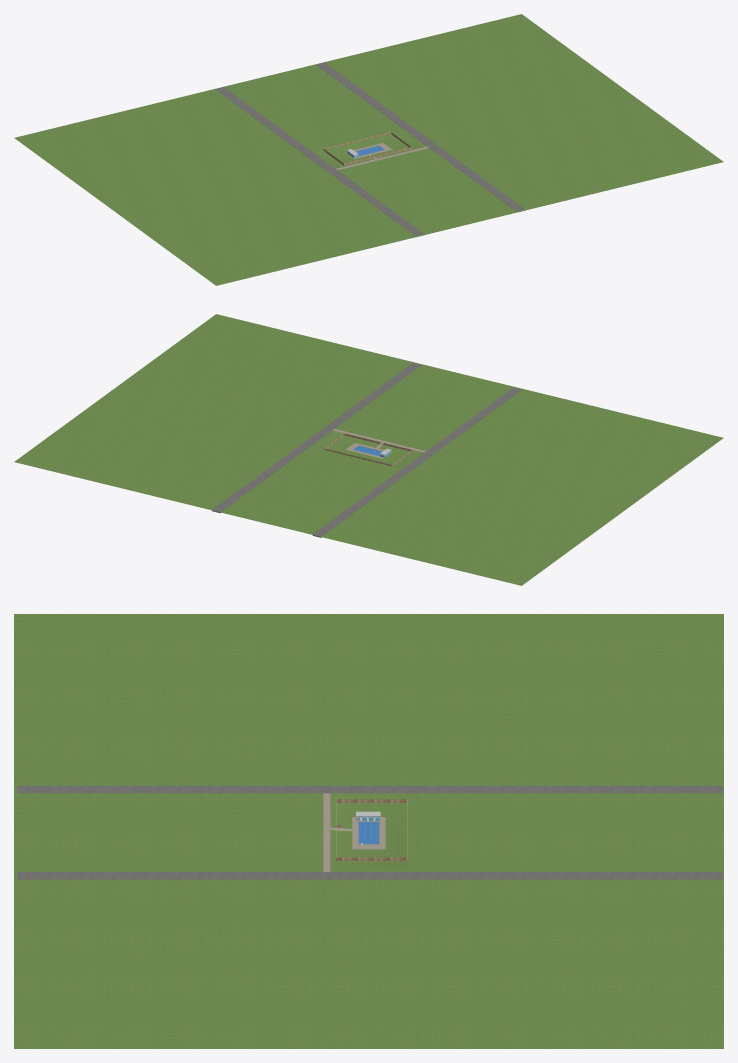
The model's file is ENVO_swimmingpool.obj.
3 views of the same model, one above another, from view 1: azimuth 30°, elevation 25°; view 2: azimuth 150°, elevation 25°; view 3: azimuth 270°, elevation 25° (orthographic). The views are drawn at different scales.
Parts seen in each view (by area): view 1: SwimmingPool; view 2: SwimmingPool; view 3: SwimmingPool.
Part boxes in pixels (x1,y1,x2,y2): SwimmingPool: [14, 14, 723, 285]; SwimmingPool: [14, 314, 723, 585]; SwimmingPool: [14, 614, 723, 1048].
Size of what is drawn, in the model's own units: 28069 by 261 by 19367.
Materials: 14 (8 with a texture image).
